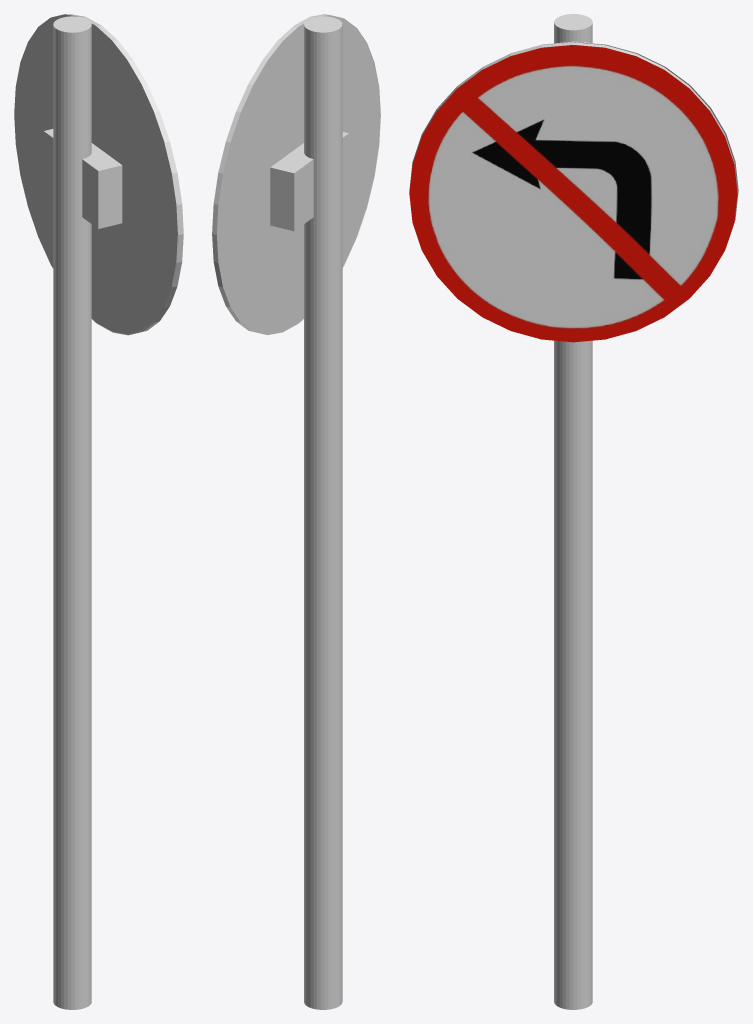
File: Lar.BelokKiri.fbx
The picture shows the model from 3 angles, left to right: view 1: azimuth 30°, elevation 25°; view 2: azimuth 150°, elevation 25°; view 3: azimuth 270°, elevation 25°; orthographic projection.
Parts seen in each view (by area): view 1: Cylinder, Cylinder.001, Cube; view 2: Cylinder, Cylinder.001, Cube; view 3: Cylinder.001, Cylinder.
Part boxes in pixels (x1=…): Cylinder: x1=53, y1=16, x2=91, y2=1009; Cylinder.001: x1=14, y1=14, x2=183, y2=335; Cube: x1=43, y1=129, x2=122, y2=228; Cylinder: x1=304, y1=16, x2=342, y2=1009; Cylinder.001: x1=212, y1=14, x2=380, y2=335; Cube: x1=270, y1=132, x2=348, y2=231; Cylinder.001: x1=409, y1=41, x2=738, y2=342; Cylinder: x1=554, y1=14, x2=592, y2=1009.
Size of the model in its own units: 35.85 by 727 by 222.
